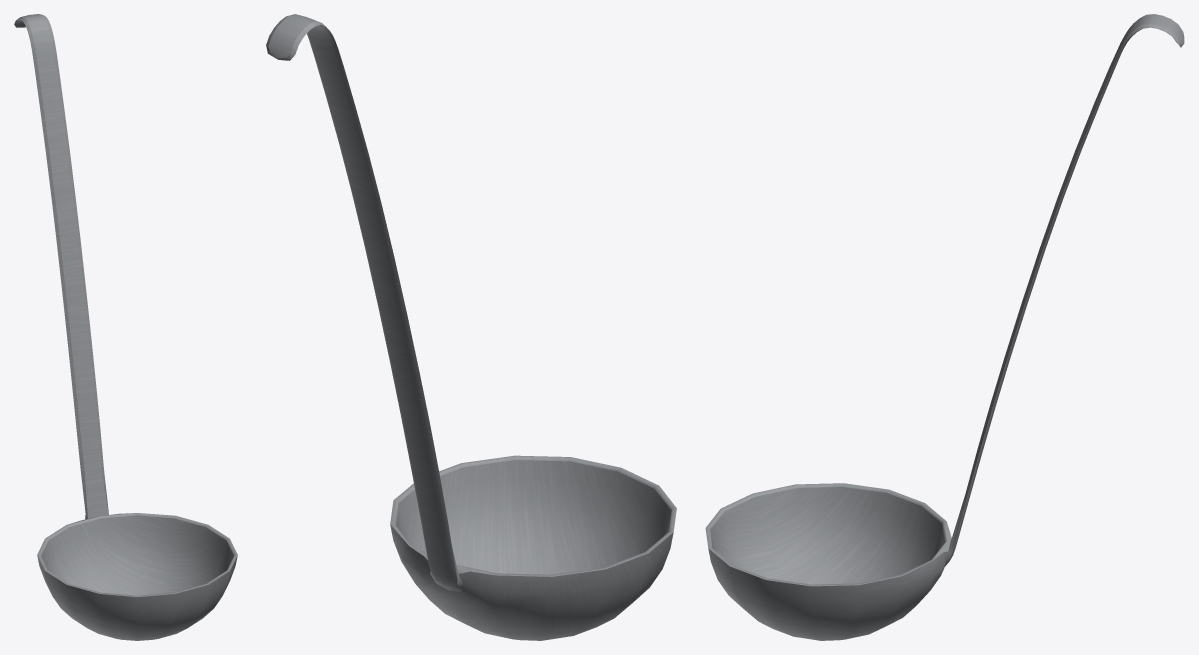
File: Laddle.fbx
3 renders of one model, left to right at view 1: azimuth 30°, elevation 25°; view 2: azimuth 150°, elevation 25°; view 3: azimuth 270°, elevation 25°, orthographic. The views are drawn at different scales.
Parts seen in each view (by area): view 1: Laddle; view 2: Laddle; view 3: Laddle.
Boxes of the visible parts, bbox=[...] form: Laddle: bbox=[14, 14, 237, 640]; Laddle: bbox=[266, 14, 676, 640]; Laddle: bbox=[705, 14, 1184, 640].
Size of the model in its own units: 12.6 by 35.73 by 24.71.
Materials: 1 (1 with a texture image).
